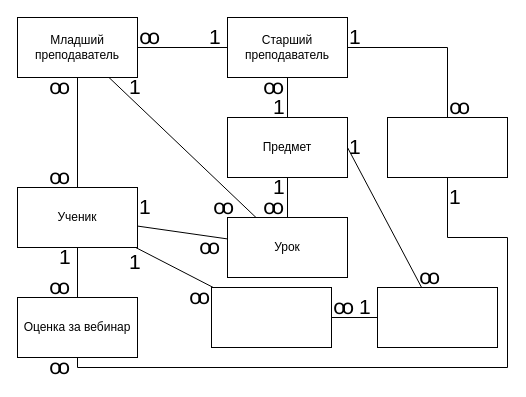
The diagram is 526 pixels wide and 397 high, and some of its shapes have lost their labels. Each missing label, with the centre of its shape:
"Вебинар" belongs at [447,147].
"Домашняя работа" belongs at [437,317].
"Результат домашней работы" belongs at [271,317].
